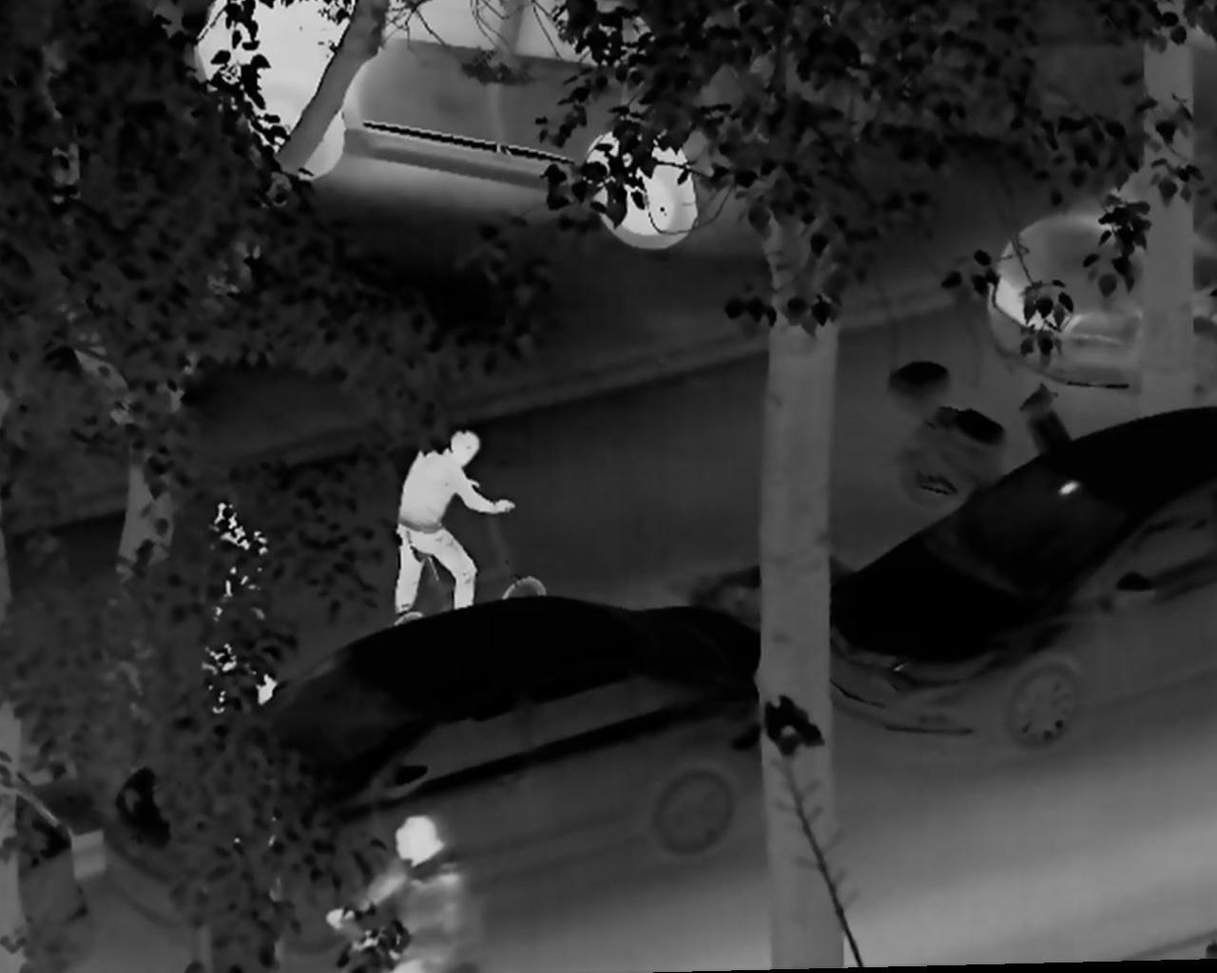person: (378, 422, 513, 625), (326, 804, 469, 973), (197, 494, 281, 716)
